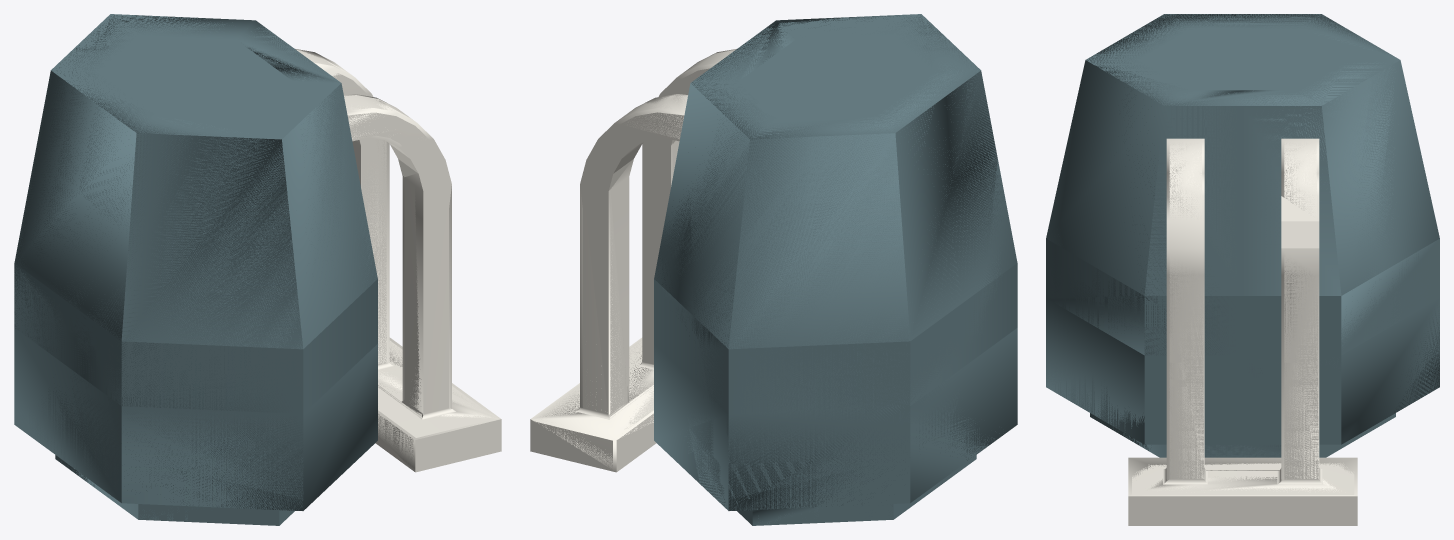
The model's file is space-kit__machine_barrel.glb.
3 renders of one model, left to right at view 1: azimuth 30°, elevation 25°; view 2: azimuth 150°, elevation 25°; view 3: azimuth 270°, elevation 25°, orthographic. The views are drawn at different scales.
Visible parts, largest first — view 1: L0_dark, L1_dark, L0_ivory, L1_ivory; view 2: L0_dark, L1_dark, L0_ivory, L1_ivory; view 3: L0_dark, L1_dark, L0_ivory, L1_ivory.
Boxes of the visible parts, box(x1,y1,x2,y2) form: L0_dark: box(14, 14, 376, 525); L1_dark: box(14, 15, 377, 520); L0_ivory: box(297, 50, 497, 469); L1_ivory: box(295, 49, 501, 472); L0_dark: box(657, 14, 1003, 525); L1_dark: box(654, 15, 1017, 525); L0_ivory: box(534, 50, 734, 469); L1_ivory: box(530, 49, 736, 472); L0_dark: box(1046, 14, 1439, 457); L1_dark: box(1046, 14, 1439, 457); L0_ivory: box(1132, 138, 1354, 525); L1_ivory: box(1128, 138, 1357, 525).
Bounding box in the file's own units: 1 × 1 × 1.
